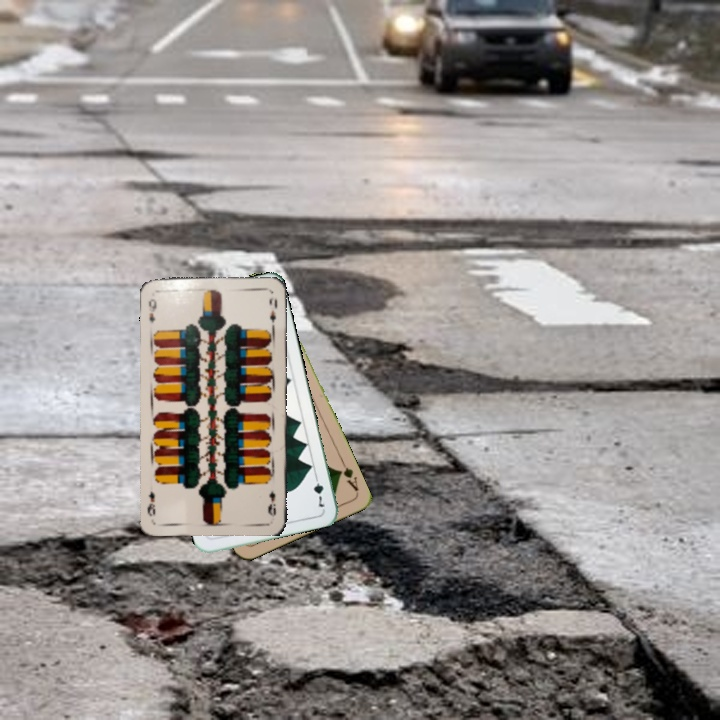E9: (264, 487, 279, 519), (145, 295, 159, 325)
G7: (309, 470, 327, 510)
GA: (334, 457, 361, 494)
